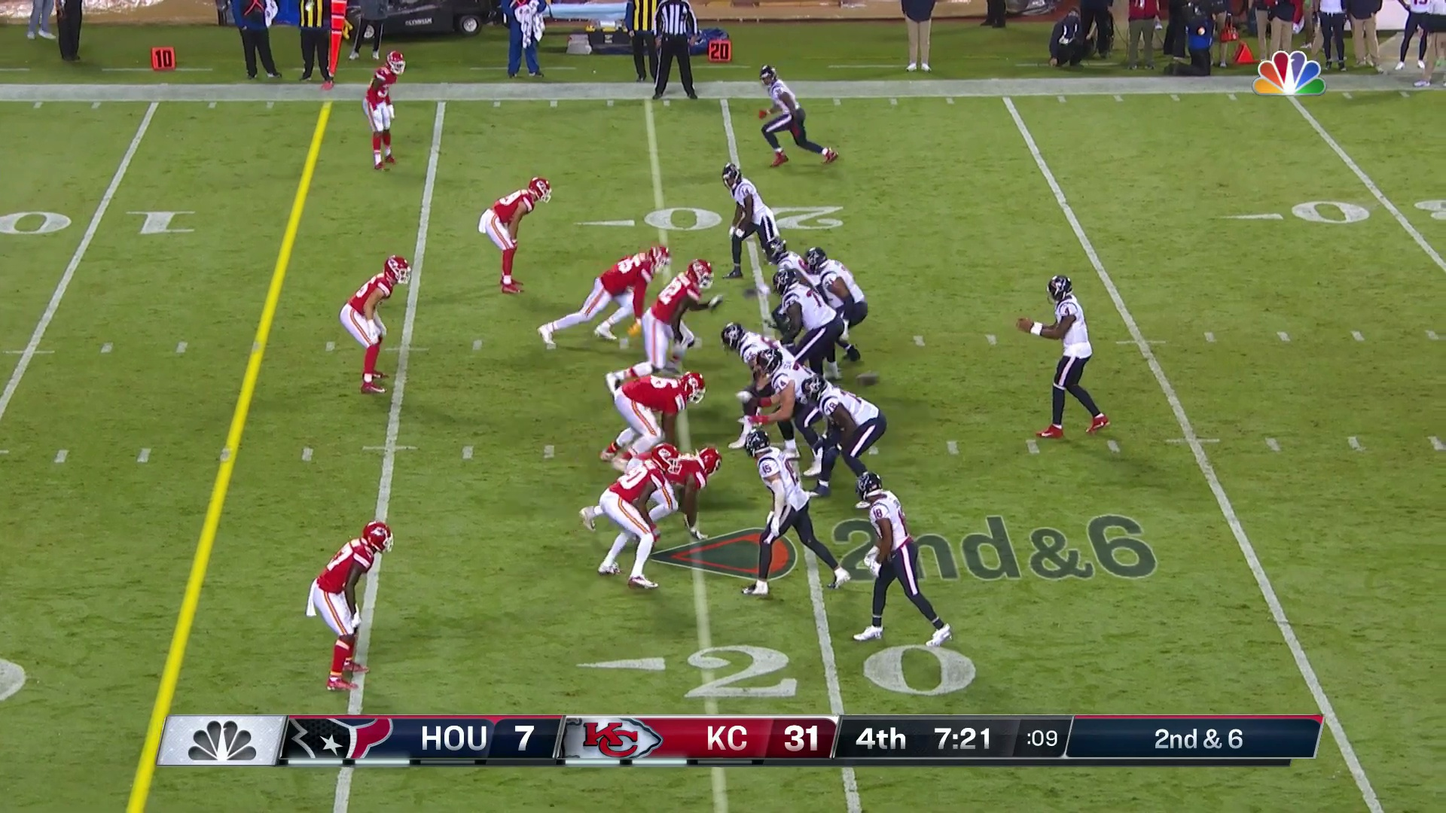Player: (802, 379, 886, 485), (604, 367, 701, 458), (773, 253, 843, 370), (723, 323, 800, 424), (805, 248, 866, 360), (364, 50, 404, 168)
